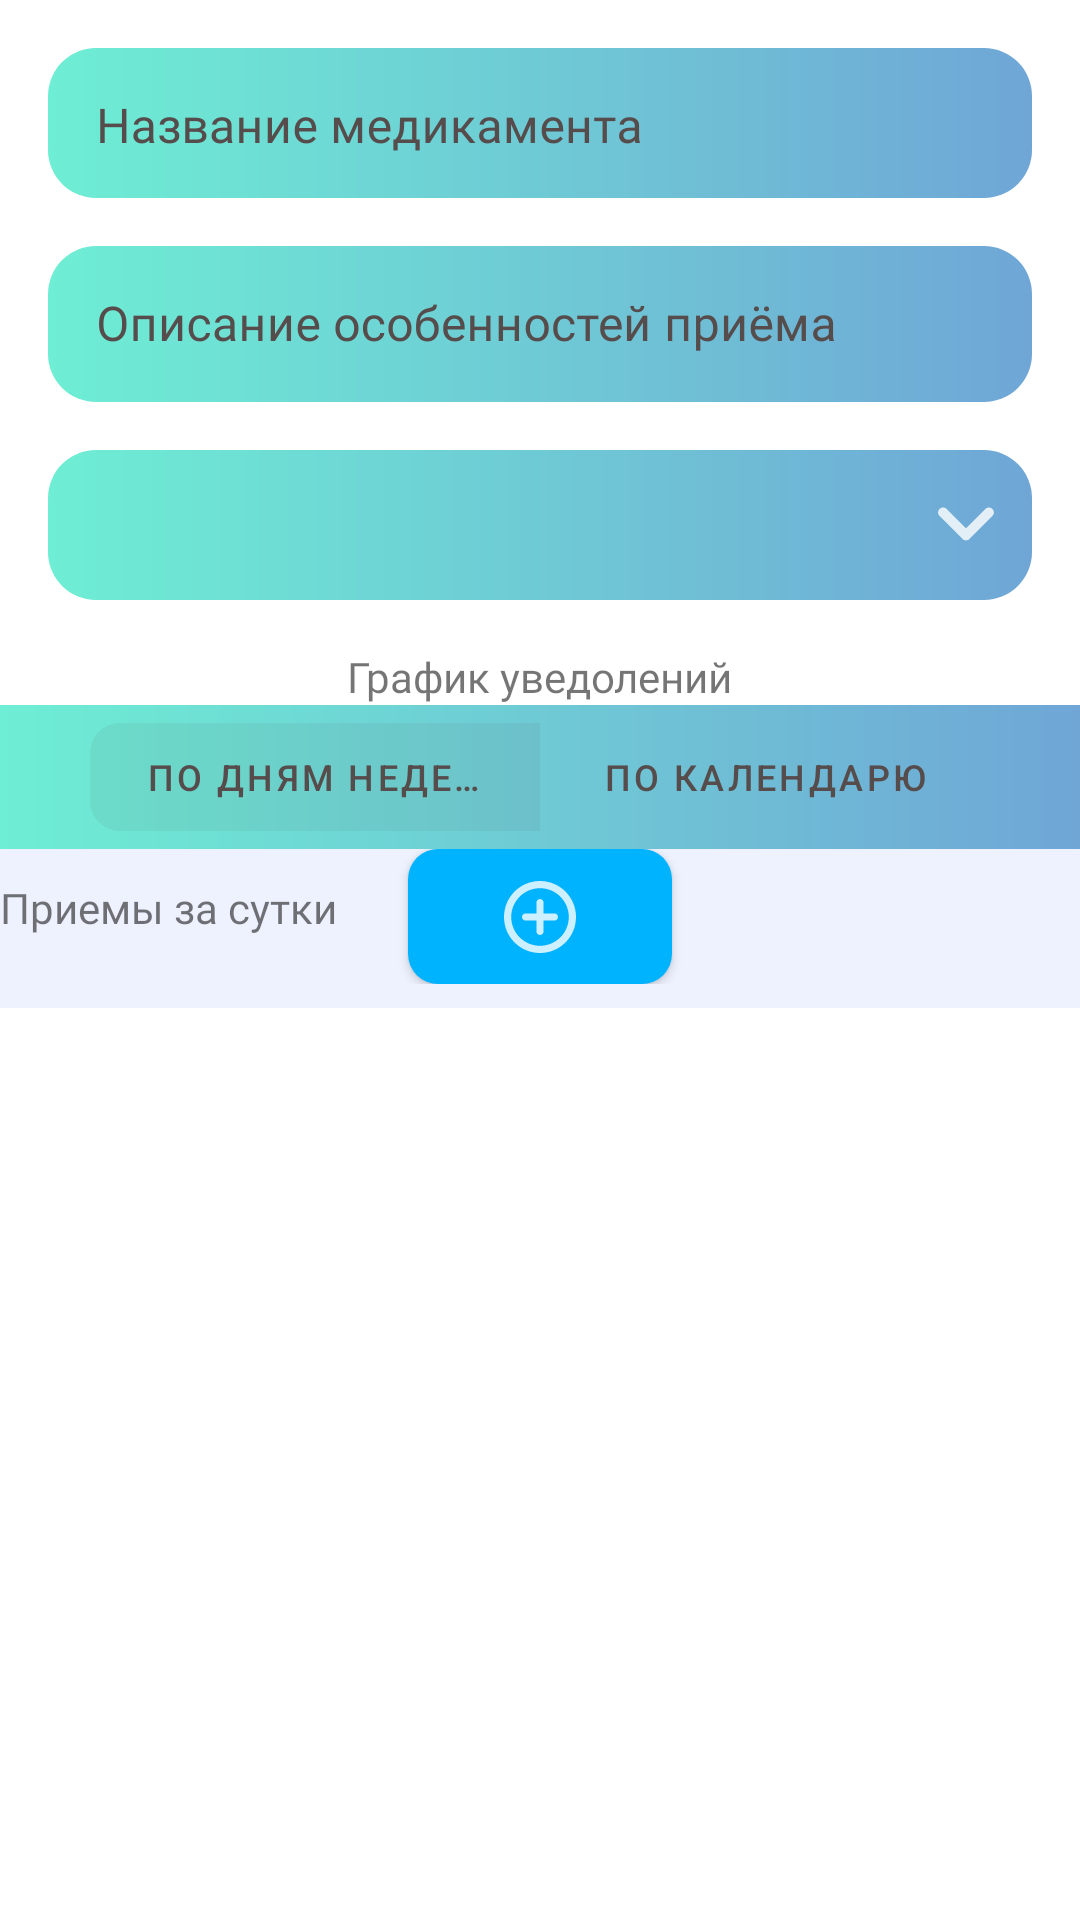

Icons on this 1080 x 1920 Android screen, each with the point to tap as point (x, y):
add: point (540, 916)
